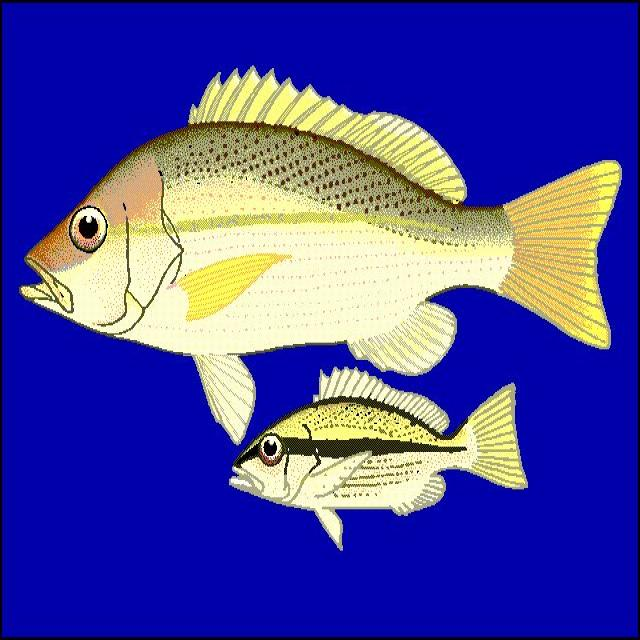ikan: (18, 64, 622, 444), (227, 364, 528, 551)
